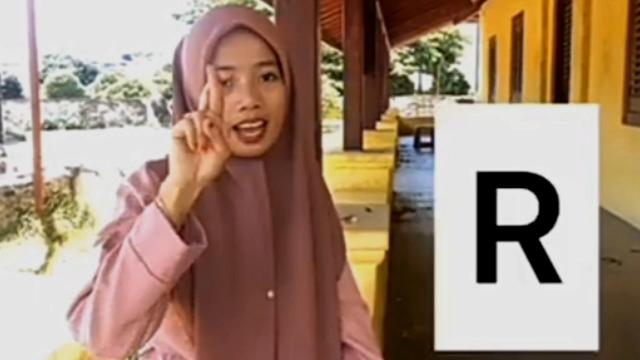R: (169, 60, 233, 190)
